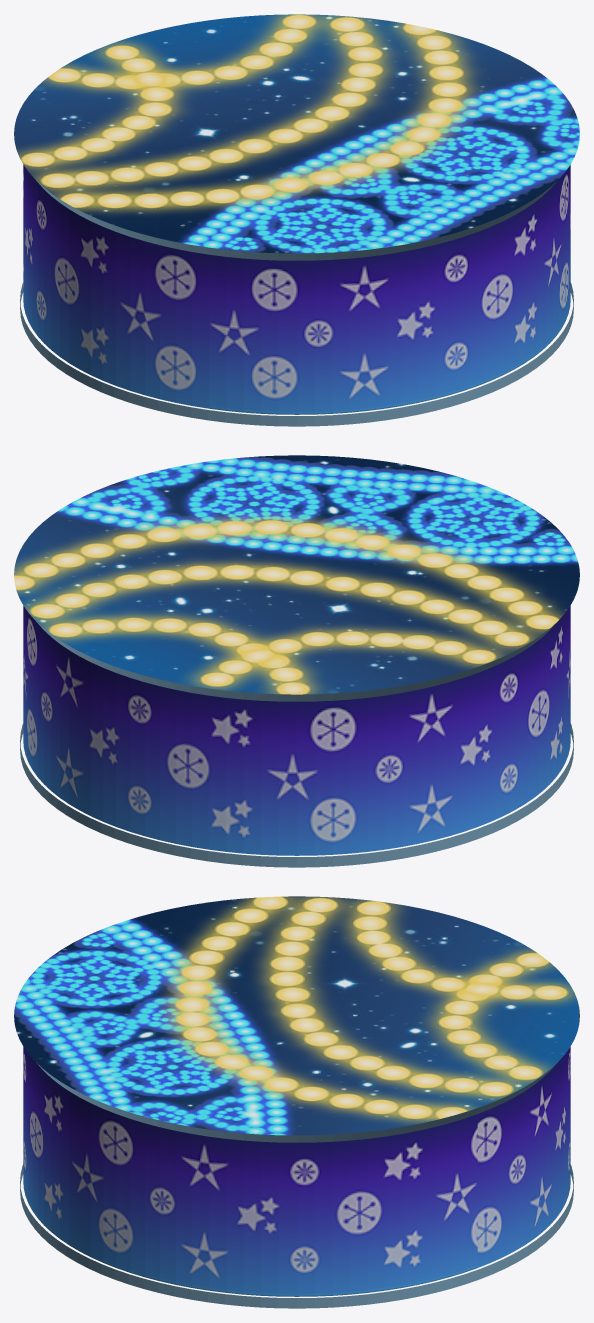
File: pedestal.glb
3 renders of one model, top to bottom at view 1: azimuth 30°, elevation 25°; view 2: azimuth 150°, elevation 25°; view 3: azimuth 270°, elevation 25°, orthographic.
Visible parts, largest first — view 1: StandAtlasTop, StandAtlasSide, GoldFootTrim, GoldTopLip; view 2: StandAtlasTop, StandAtlasSide, GoldFootTrim, GoldTopLip; view 3: StandAtlasTop, StandAtlasSide, GoldFootTrim, GoldTopLip.
Boxes of the visible parts, x1,y1,x2,y2 form: StandAtlasTop: (14, 14, 579, 253); StandAtlasSide: (23, 165, 570, 414); GoldFootTrim: (20, 282, 573, 426); GoldTopLip: (33, 177, 560, 260); StandAtlasTop: (14, 455, 579, 694); StandAtlasSide: (23, 606, 570, 855); GoldFootTrim: (20, 723, 573, 867); GoldTopLip: (33, 618, 560, 701); StandAtlasTop: (14, 896, 579, 1135); StandAtlasSide: (23, 1047, 570, 1296); GoldFootTrim: (20, 1164, 573, 1308); GoldTopLip: (33, 1059, 560, 1142).
Size of the model in its own units: 3.67 by 1.26 by 3.67.
2 materials, 1 textured.
